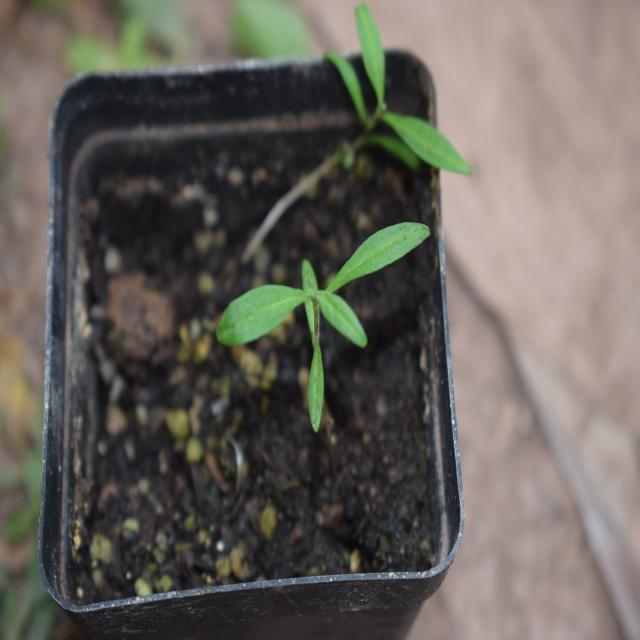white_smart_weed: (218, 175, 443, 443)
